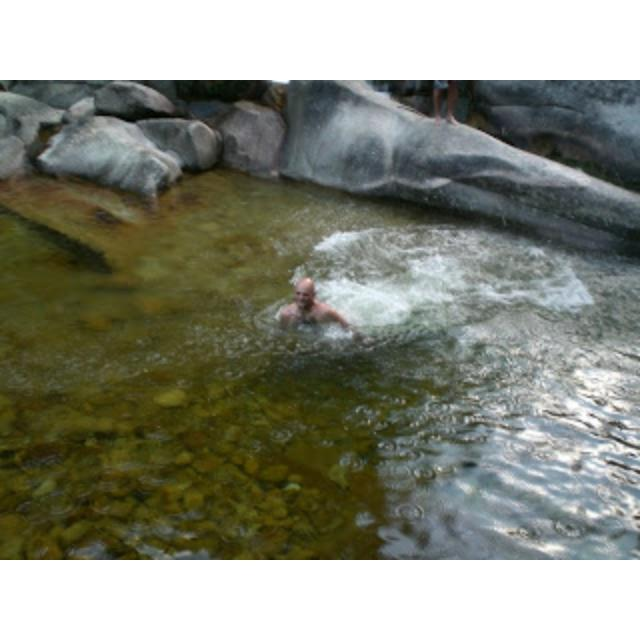human: (280, 275, 358, 337)
